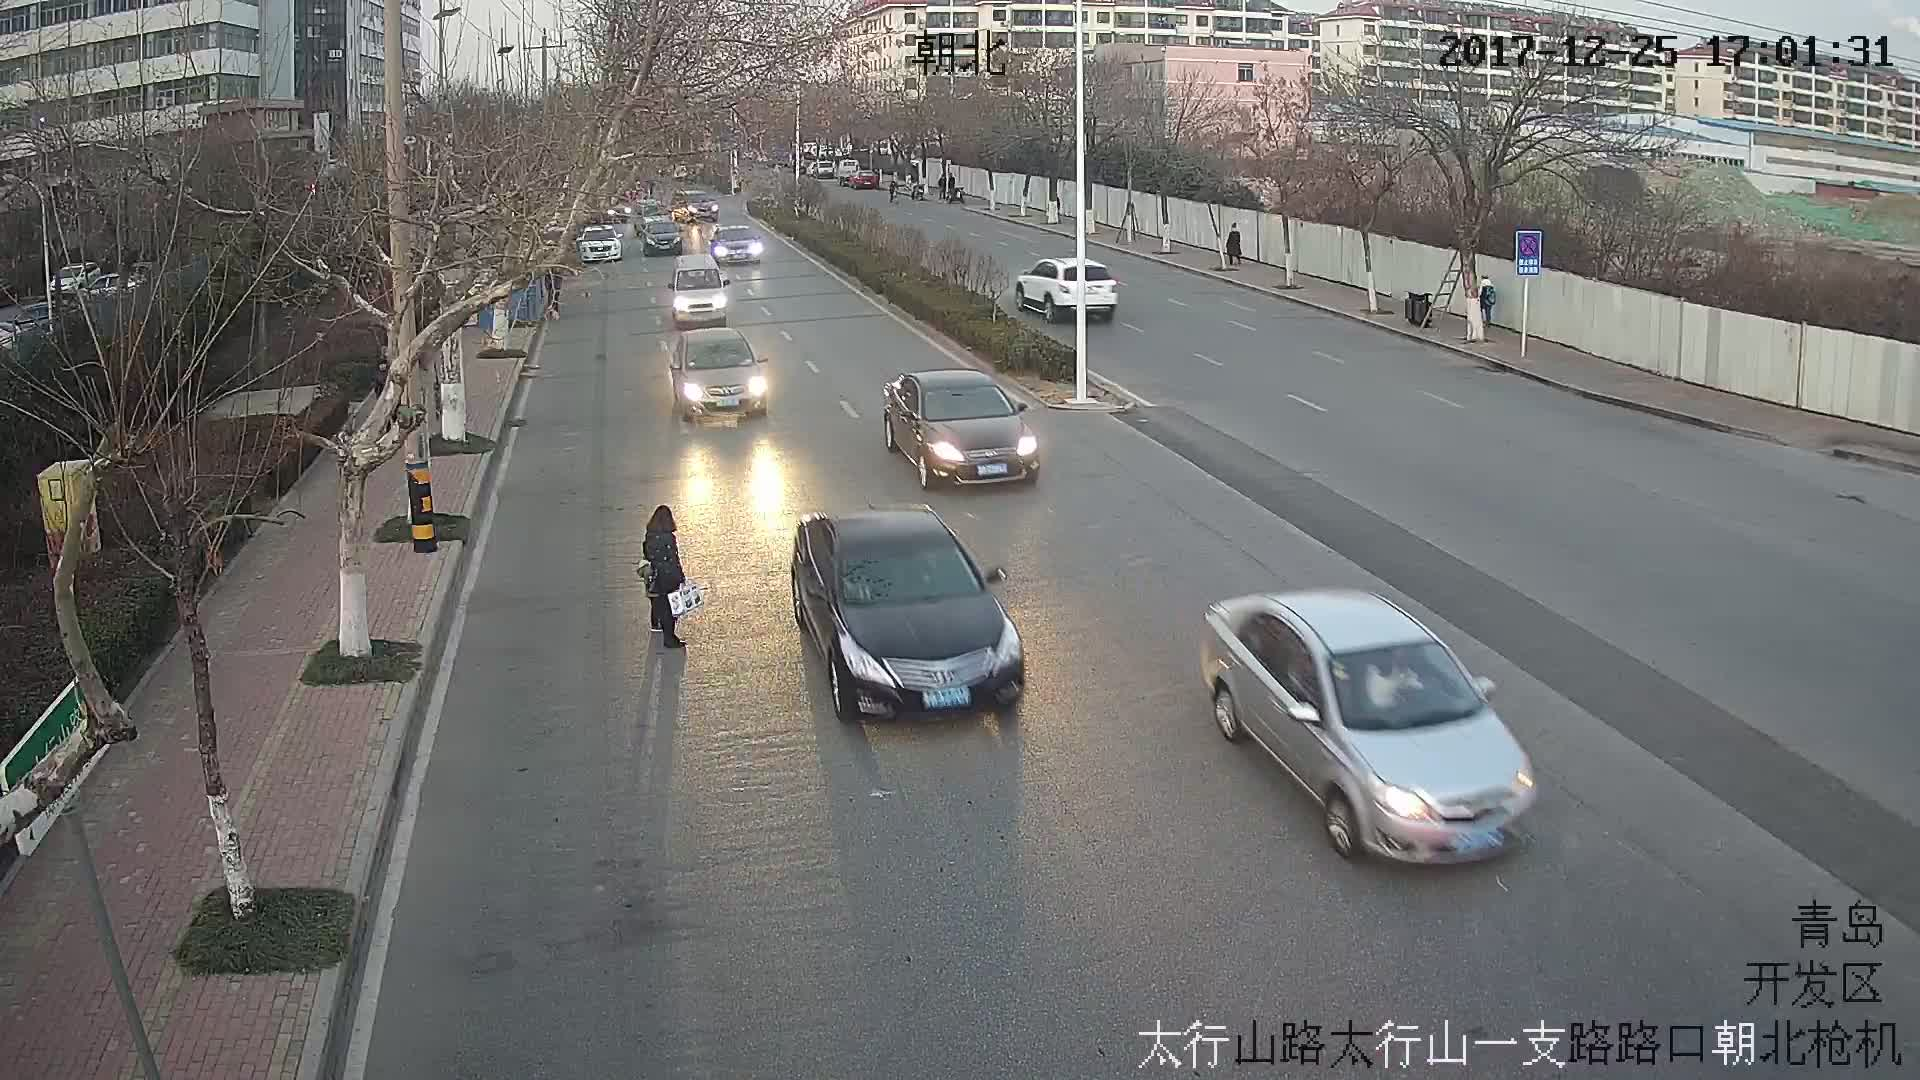car: (1199, 602, 1543, 855), (791, 507, 1025, 717), (884, 370, 1049, 488), (671, 327, 774, 421), (1017, 256, 1120, 324), (673, 269, 725, 321), (713, 227, 760, 266), (578, 225, 618, 260), (646, 220, 681, 257)
person: (632, 507, 703, 649), (1474, 275, 1503, 327), (1224, 221, 1248, 260)
